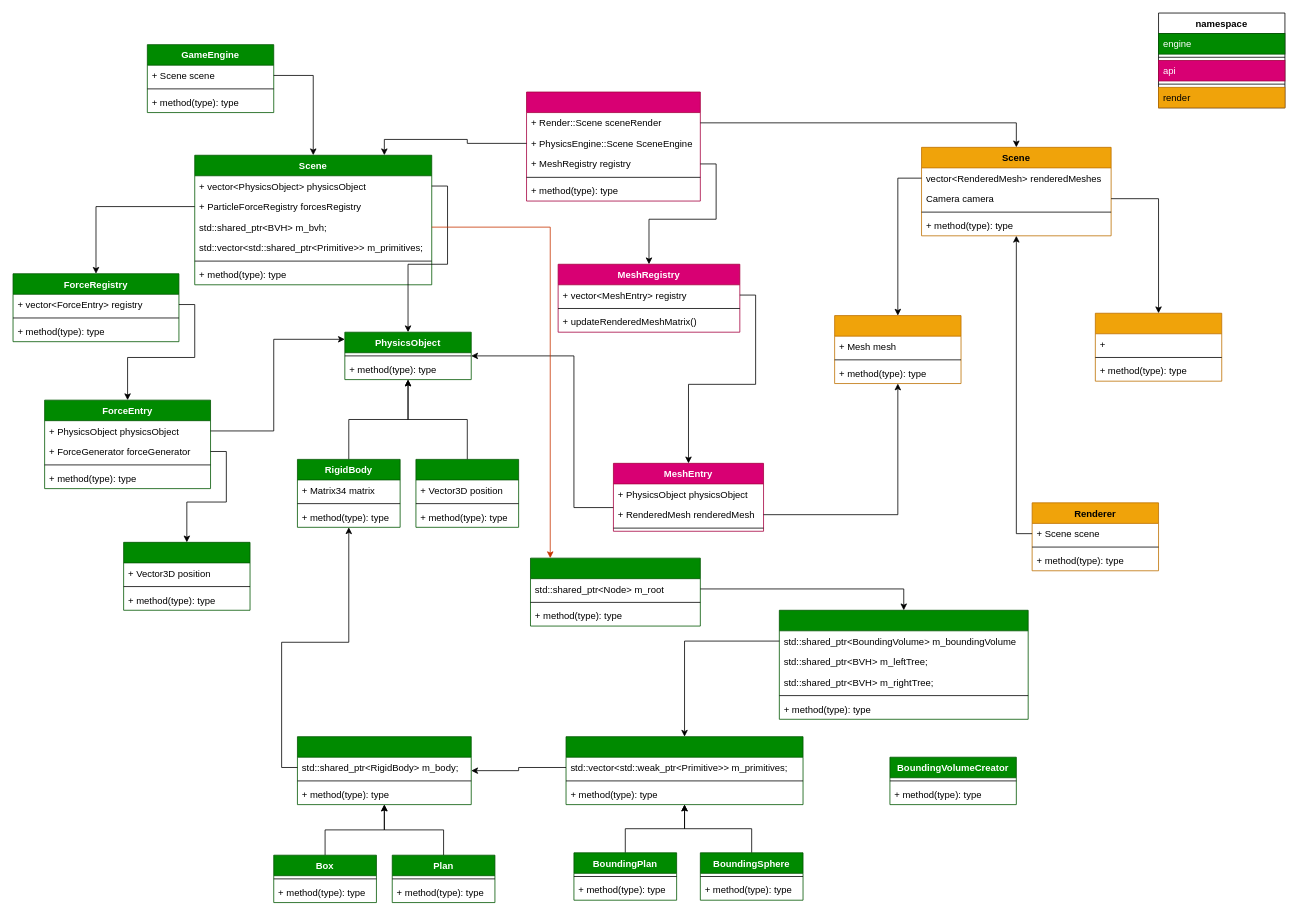
Image size: 1298x916. Some labels were removed from this diagram. Each missing label, with the box of its shape:
BoundingVolume: (565, 736, 803, 805)
BVH: (530, 557, 700, 626)
Camera: (1095, 312, 1222, 381)
ForceGenerator: (123, 542, 250, 610)
Node: (779, 609, 1028, 719)
Particle: (415, 459, 519, 527)
Primitive: (297, 736, 471, 805)
RendererdMesh: (834, 315, 961, 384)
SceneAPI: (526, 91, 700, 201)
